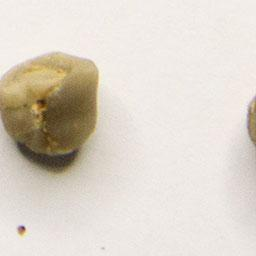defect: (1, 47, 102, 160)
